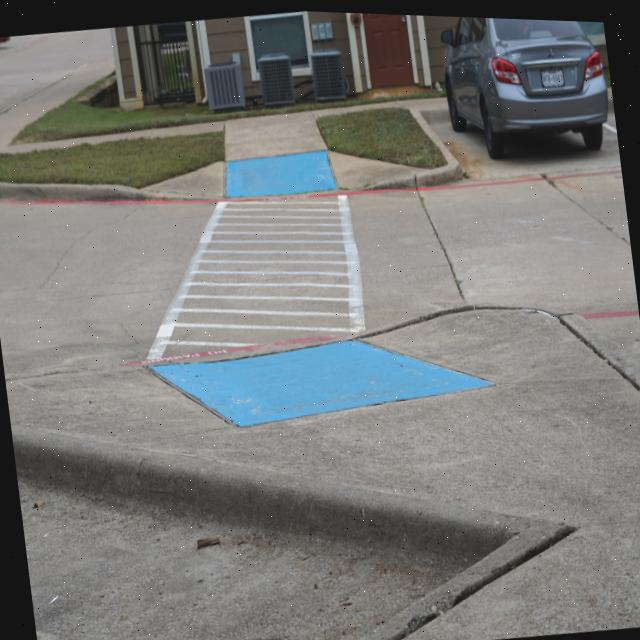Automobile: (445, 13, 608, 155)
Obstacle: (12, 436, 497, 640)
Road: (0, 164, 638, 376), (0, 27, 110, 111)
Sidewalk: (5, 300, 640, 640), (0, 67, 444, 194)
